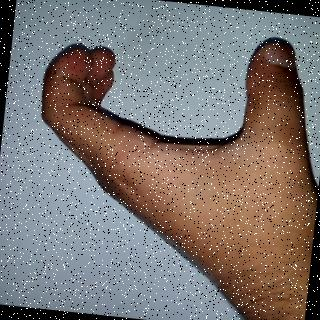C: (15, 14, 318, 282)
